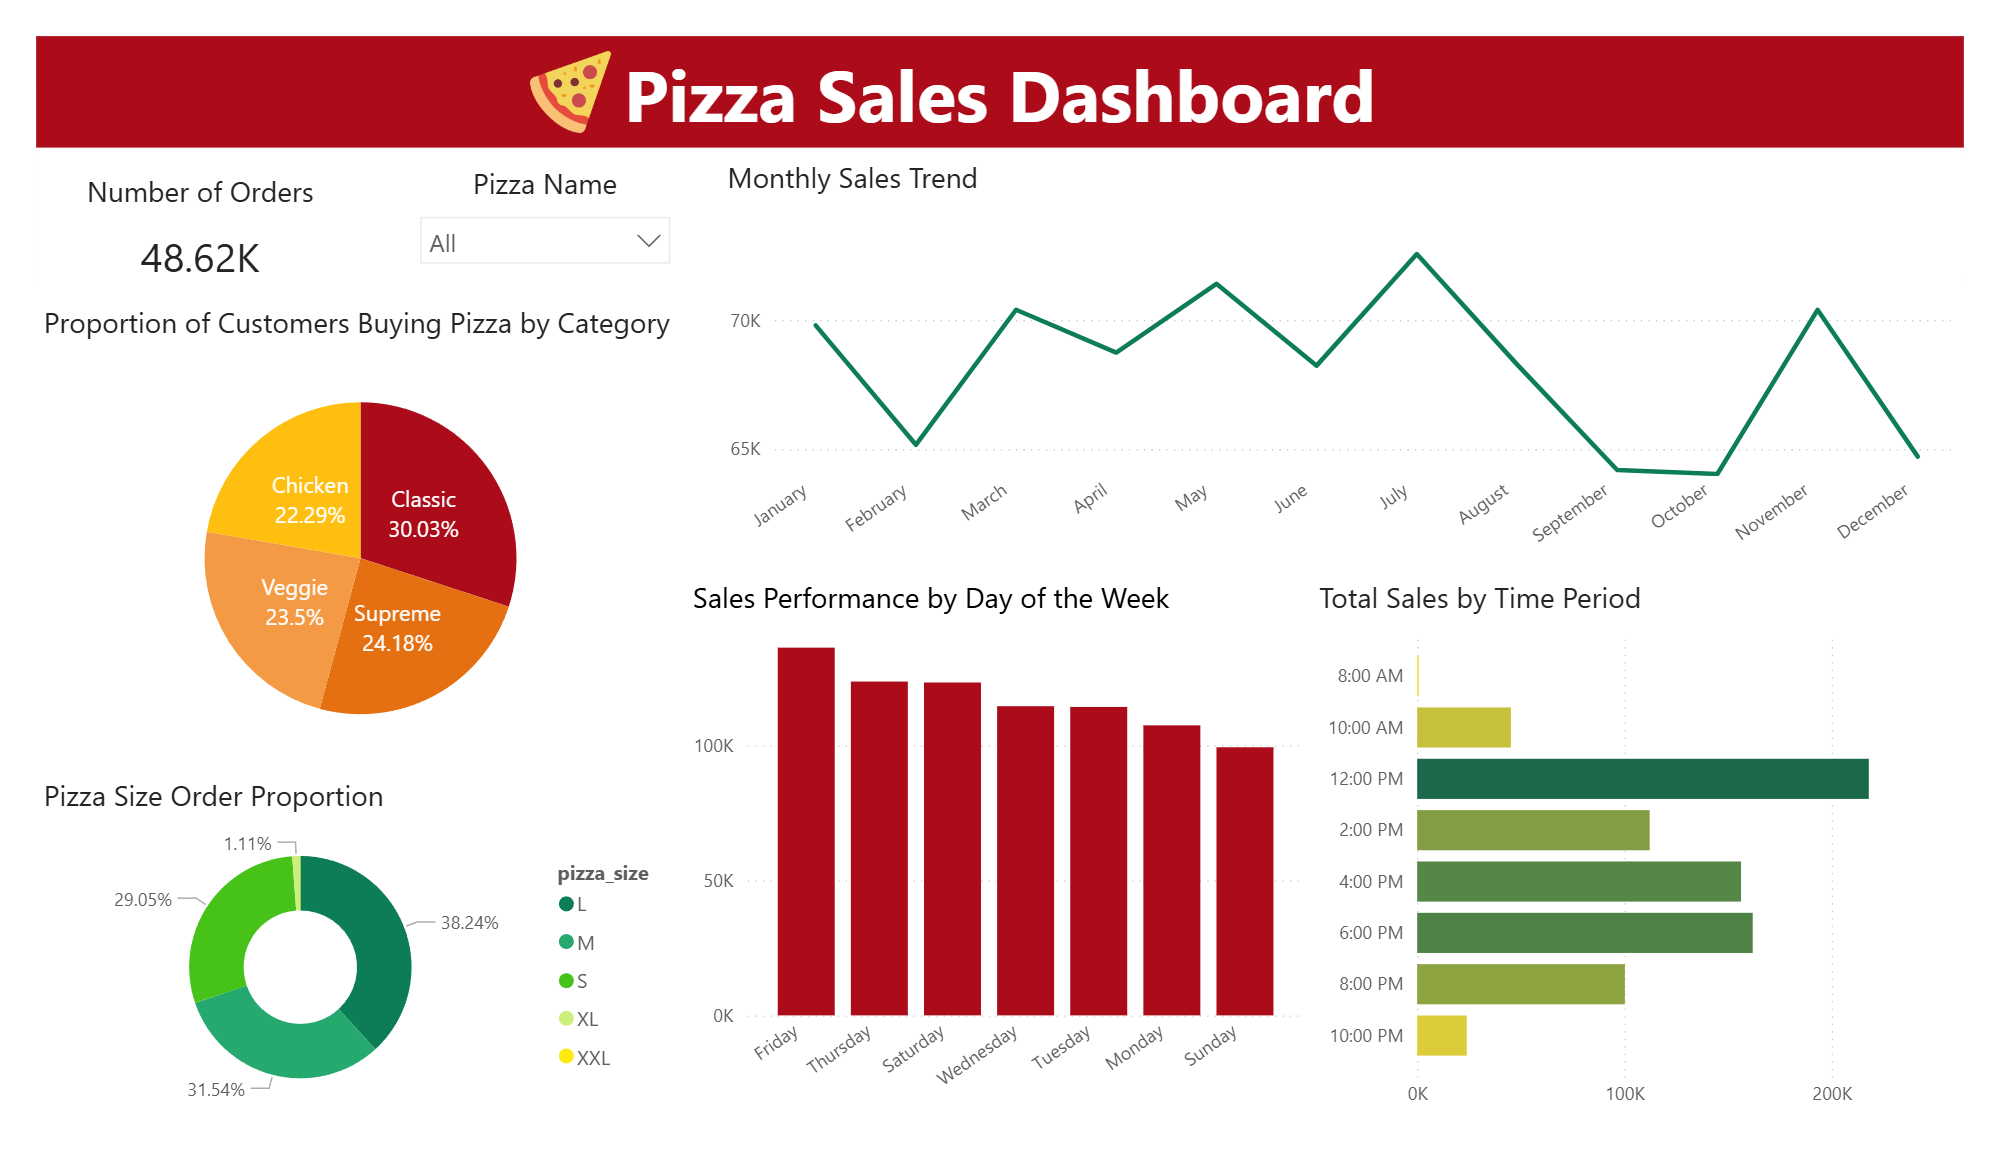

The dashboard page shown, as its layout file describes it:
{"tool":"powerbi","page":{"name":"Page 1","canvas":[1280,720],"ordinal":0},"visuals":[{"type":"textbox","box":[0,0,1280.3,74.1],"z":0},{"type":"image","box":[303.3,5.5,102.9,63.1],"z":1000},{"type":"card","fields":{"Values":["CountNonNull(Pizza Sales Dataset.order_id)"]},"box":[28.2,120.5,161.5,53.8],"z":2000},{"type":"textbox","box":[14.1,84.6,189.7,35.9],"z":3000},{"type":"pieChart","title":"Proportion of Customers Buying Pizza by Category","fields":{"Category":["Pizza Sales Dataset.pizza_category"],"Y":["Sum(Pizza Sales Dataset.quantity)"]},"box":[0,176.9,430.8,314.1],"z":4000},{"type":"lineChart","title":"Monthly Sales Trend","fields":{"Y":["Sum(Pizza Sales Dataset.total_price)"],"Category":["Pizza Sales Dataset.order_date.Variation.Date Hierarchy.Month"]},"box":[453.8,80.8,826.9,278.2],"z":5000},{"type":"columnChart","title":"Sales Performance by Day of the Week","fields":{"Category":["Pizza Sales Dataset.order_day"],"Y":["Sum(Pizza Sales Dataset.total_price)"]},"box":[430.9,359.5,415.8,360.9],"z":6000},{"type":"donutChart","title":"Pizza Size Order Proportion","fields":{"Category":["Pizza Sales Dataset.pizza_size"],"Y":["Sum(Pizza Sales Dataset.quantity)"]},"box":[0,491.3,430.9,229.2],"z":7000},{"type":"barChart","title":"Total Sales by Time Period","fields":{"Category":["Pizza Sales Dataset.order_time (bins)"],"Y":["Sum(Pizza Sales Dataset.total_price)"]},"box":[846.7,359.5,433.6,360.9],"z":8000},{"type":"slicer","title":"Pizza Name","fields":{"Values":["Pizza Sales Dataset.pizza_name"]},"box":[244.9,84.6,185.9,84.6],"z":9000}]}

Visuals, with their boxes in screenshot pixels (x1, y1, x2, y2), scaled from the page's 1280x720 canvas onto the 2000x1156 screenshot:
textbox: crop(0, 0, 1999, 119)
image: crop(474, 9, 635, 110)
card - CountNonNull(Pizza Sales Dataset.order_id): crop(44, 193, 296, 280)
textbox: crop(22, 136, 318, 193)
"Proportion of Customers Buying Pizza by Category" pieChart: crop(0, 284, 673, 788)
"Monthly Sales Trend" lineChart: crop(709, 130, 1999, 576)
"Sales Performance by Day of the Week" columnChart: crop(673, 577, 1323, 1155)
"Pizza Size Order Proportion" donutChart: crop(0, 789, 673, 1155)
"Total Sales by Time Period" barChart: crop(1323, 577, 1999, 1155)
"Pizza Name" slicer: crop(383, 136, 673, 272)
